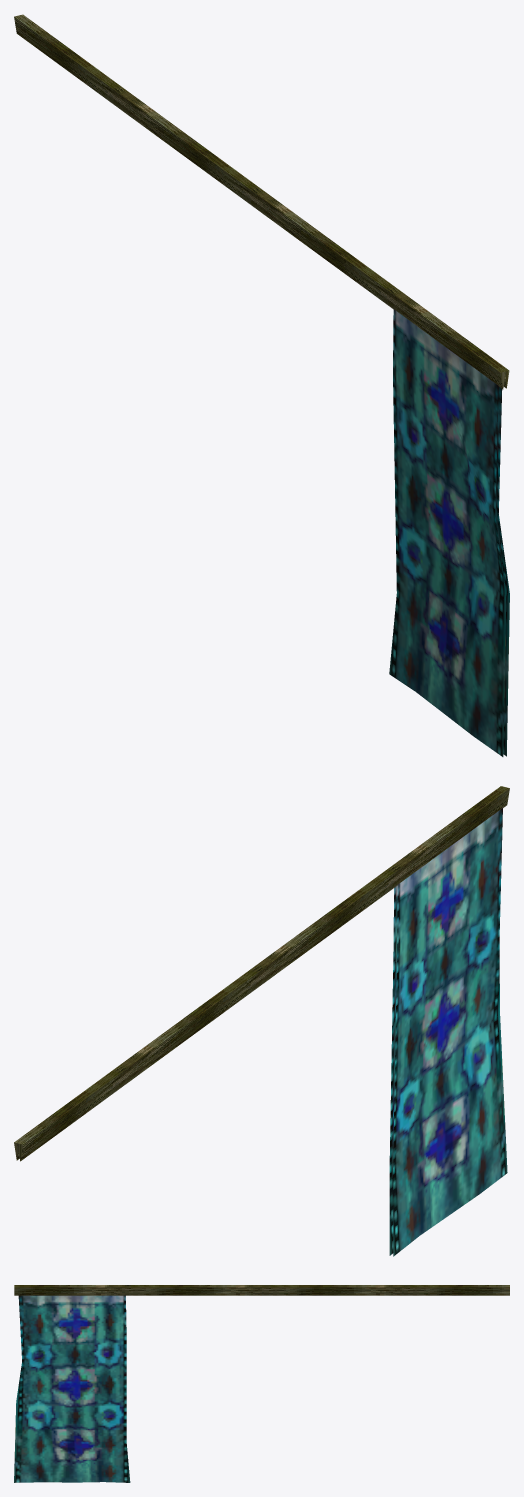
The picture shows the model from 3 angles, top to bottom: view 1: azimuth 30°, elevation 25°; view 2: azimuth 150°, elevation 25°; view 3: azimuth 270°, elevation 25°; orthographic projection. The views are drawn at different scales.
Visible parts, largest first — view 1: TN2_F1-col; view 2: TN2_F1-col; view 3: TN2_F1-col.
Boxes of the visible parts, <box> form: TN2_F1-col: <box>14,14,509,756</box>; TN2_F1-col: <box>14,786,509,1256</box>; TN2_F1-col: <box>14,1285,509,1482</box>.
Bounding box in the file's own units: 0.0488 × 1.41 × 3.23.
Materials: 2 (2 with a texture image).
